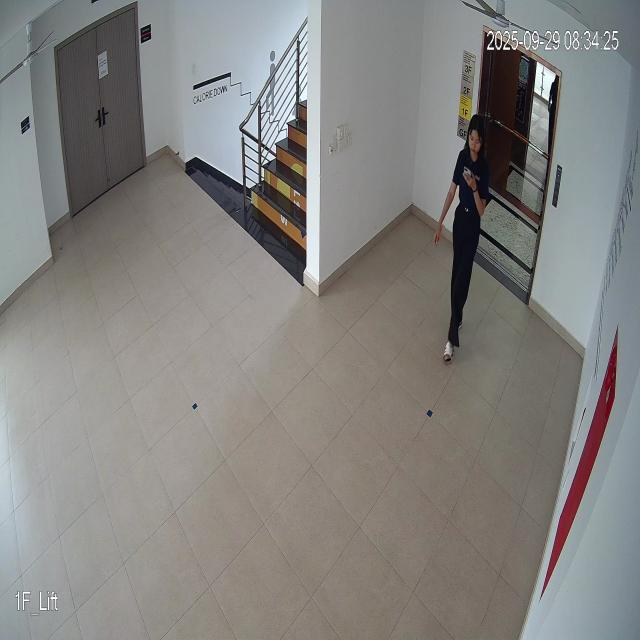face: (463, 112, 490, 159)
